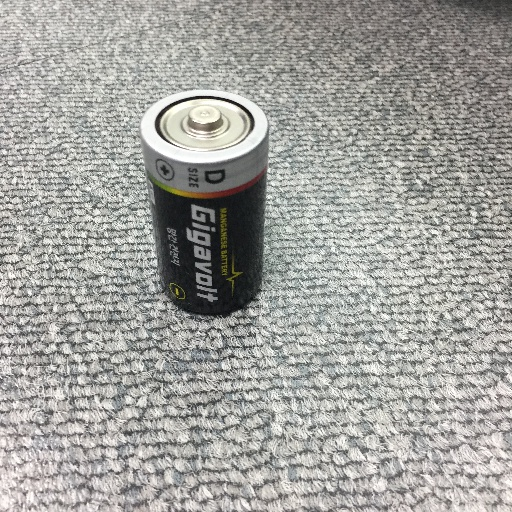Battery_0: (131, 89, 288, 327)
